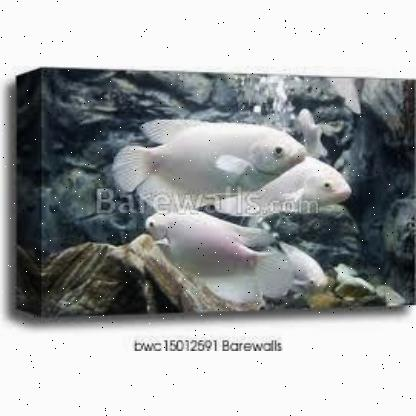gurame: (113, 115, 300, 209), (142, 205, 288, 307)
